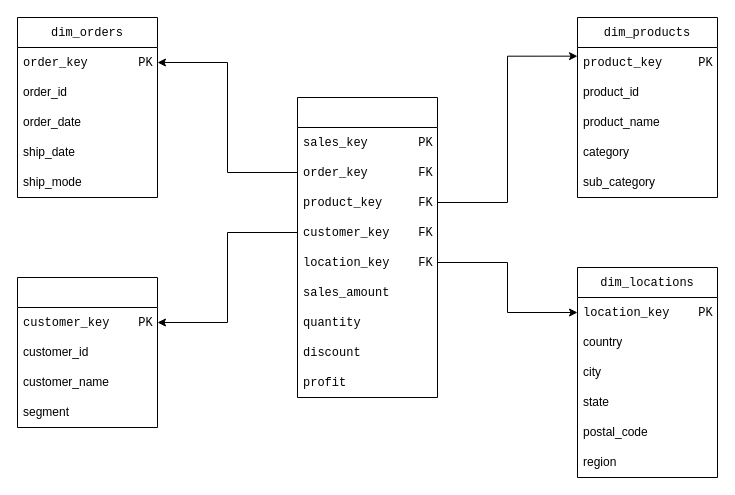
This 735x495 diagram has some shape labels left out. Here are the shapes that lost their labels. From the top down, the box of each, then its label:
(296, 96, 438, 398): fact_sales
(16, 276, 158, 428): dim_customers
